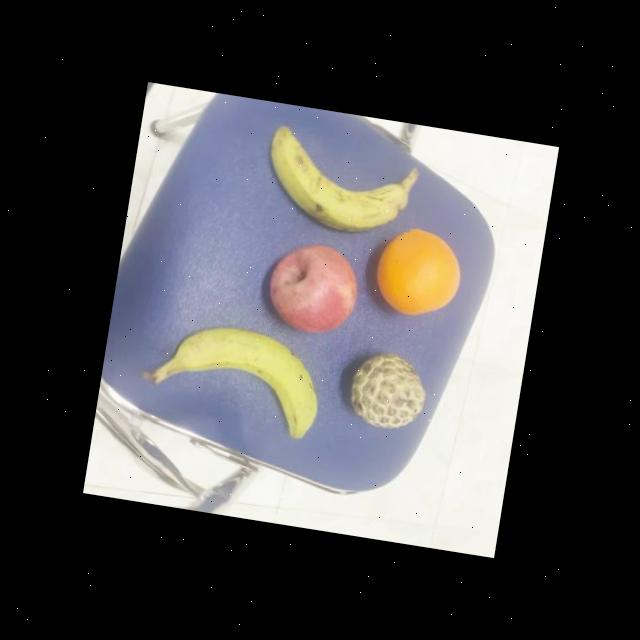Sakya fruit: (342, 348, 432, 434)
apple: (262, 238, 364, 342)
banana: (162, 318, 328, 444), (256, 122, 418, 246)
orange: (368, 222, 468, 326)
